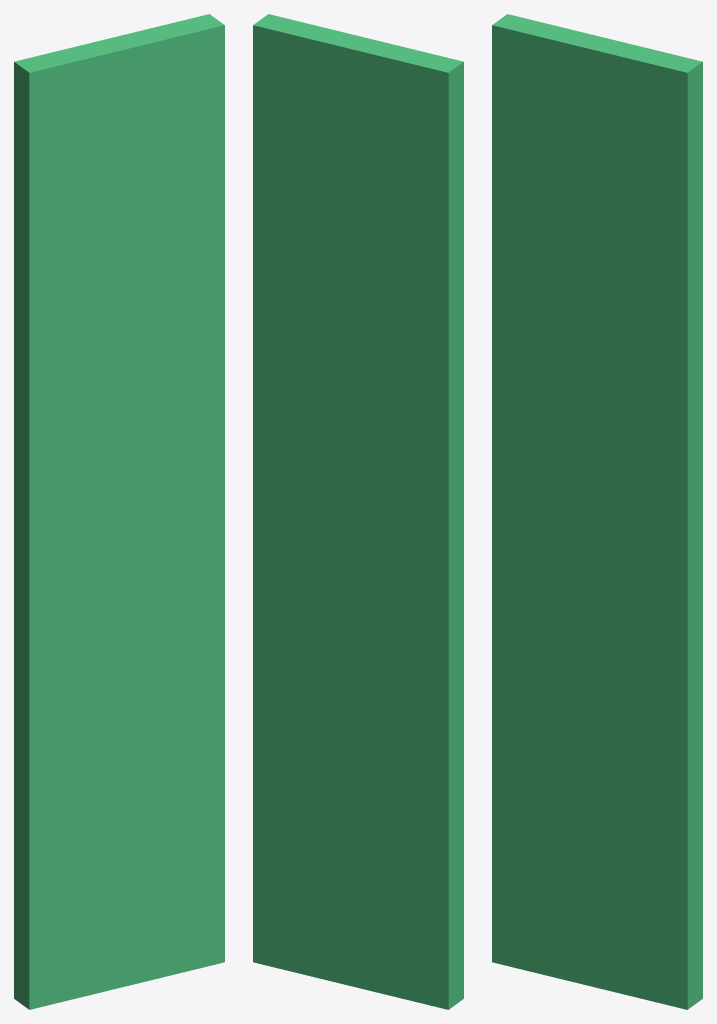
Rendered from speed_limit_35.dae.
3 renders of one model, left to right at view 1: azimuth 30°, elevation 25°; view 2: azimuth 150°, elevation 25°; view 3: azimuth 330°, elevation 25°, orthographic.
Parts seen in each view (by area): view 1: Colmesh-1; view 2: Colmesh-1; view 3: Colmesh-1.
Part boxes in pixels (x1,y1,x2,y2): Colmesh-1: (14, 14, 224, 1009); Colmesh-1: (253, 14, 463, 1009); Colmesh-1: (492, 14, 702, 1009).
Size of the model in its own units: 25.25 by 3.43 by 116.
